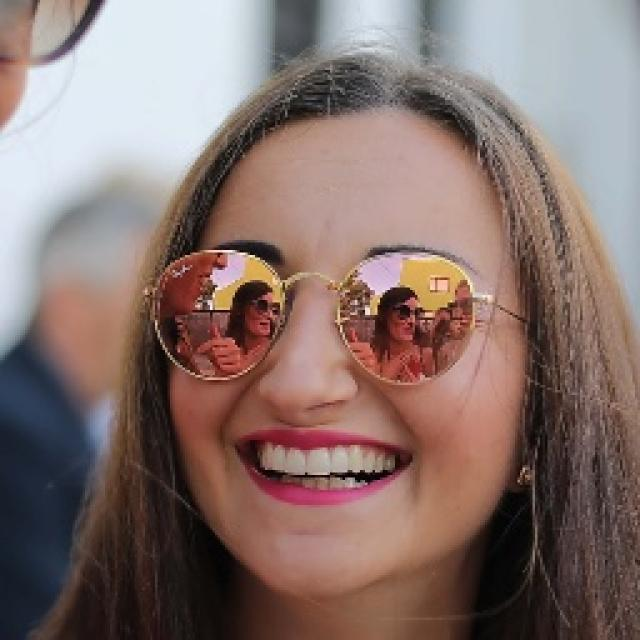glasses: (130, 240, 507, 388)
